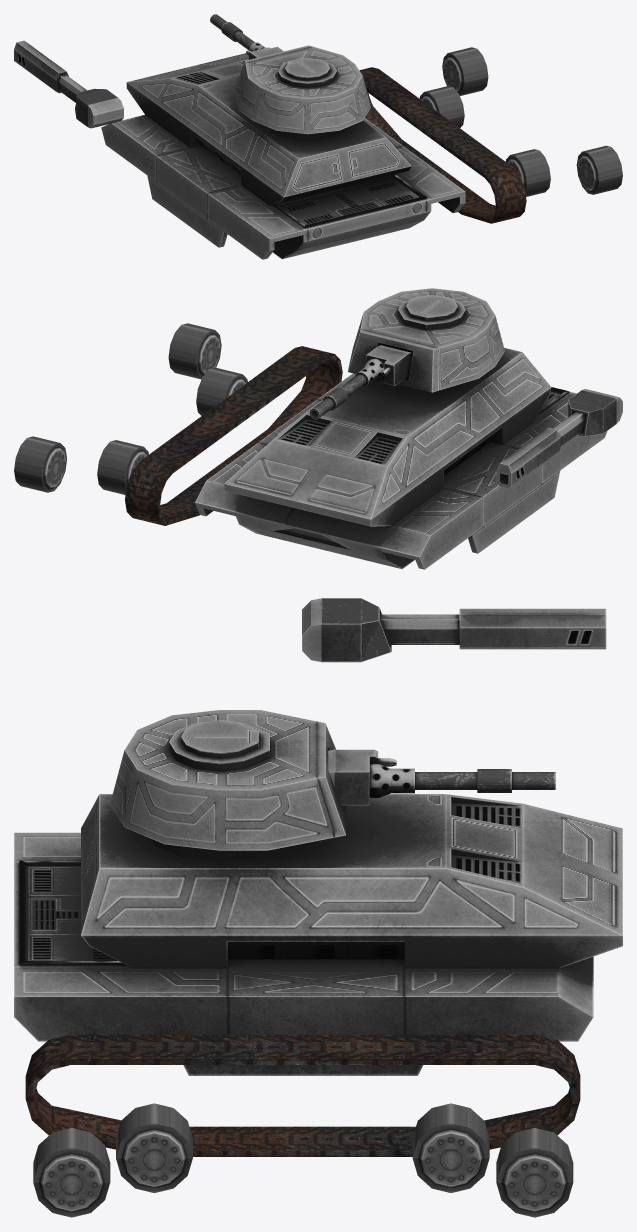
Rendered from Vedette.FBX.
3 renders of one model, top to bottom at view 1: azimuth 30°, elevation 25°; view 2: azimuth 150°, elevation 25°; view 3: azimuth 270°, elevation 25°, orthographic. The views are drawn at different scales.
Visible parts, largest first — view 1: body, turret, trackl, barrel_1 (×2), mantlet_1 (×2), wheel8, wheel5, wheel7, wheel6; view 2: body, trackl, turret, barrel_1 (×2), mantlet_1 (×2), wheel5, wheel8, wheel6, wheel7; view 3: body, trackl, turret, barrel_1 (×2), mantlet_1 (×2), wheel6, wheel5, wheel8, wheel7.
Boxes of the visible parts, left/top/right/bottom form: body: left=101, top=53, right=465, bottom=259; turret: left=234, top=45, right=370, bottom=134; trackl: left=359, top=67, right=526, bottom=223; barrel_1 (×2): left=14, top=14, right=254, bottom=102; mantlet_1 (×2): left=75, top=42, right=283, bottom=128; wheel8: left=576, top=145, right=622, bottom=194; wheel5: left=442, top=47, right=488, bottom=95; wheel7: left=505, top=149, right=550, bottom=196; wheel6: left=419, top=86, right=464, bottom=127; body: left=195, top=347, right=607, bottom=569; trackl: left=125, top=346, right=342, bottom=525; turret: left=347, top=288, right=504, bottom=392; barrel_1 (×2): left=309, top=374, right=586, bottom=488; mantlet_1 (×2): left=355, top=345, right=622, bottom=436; wheel5: left=14, top=436, right=66, bottom=492; wheel8: left=168, top=323, right=221, bottom=379; wheel6: left=97, top=440, right=148, bottom=494; wheel7: left=196, top=367, right=247, bottom=415; body: left=14, top=794, right=622, bottom=1075; trackl: left=25, top=1034, right=580, bottom=1156; turret: left=110, top=710, right=345, bottom=850; barrel_1 (×2): left=380, top=608, right=606, bottom=792; mantlet_1 (×2): left=302, top=598, right=414, bottom=805; wheel6: left=412, top=1103, right=489, bottom=1192; wheel5: left=496, top=1128, right=573, bottom=1217; wheel8: left=33, top=1128, right=110, bottom=1217; wheel7: left=116, top=1103, right=192, bottom=1193.
Bounding box in the file's own units: 62.59 × 21.77 × 42.33.
Materials: 1 (1 with a texture image).
